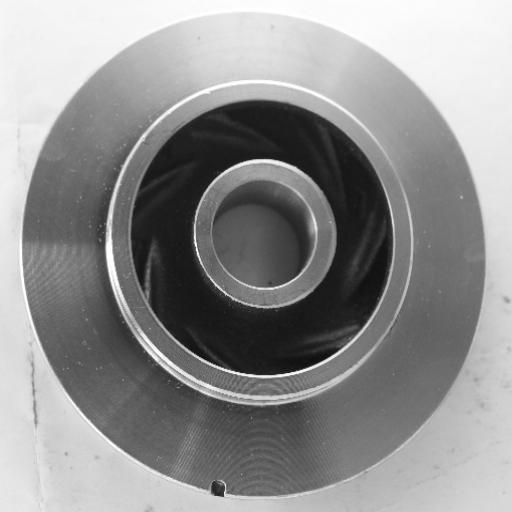pit: (204, 472, 236, 507)
unpolished_casting: (22, 10, 489, 498)
